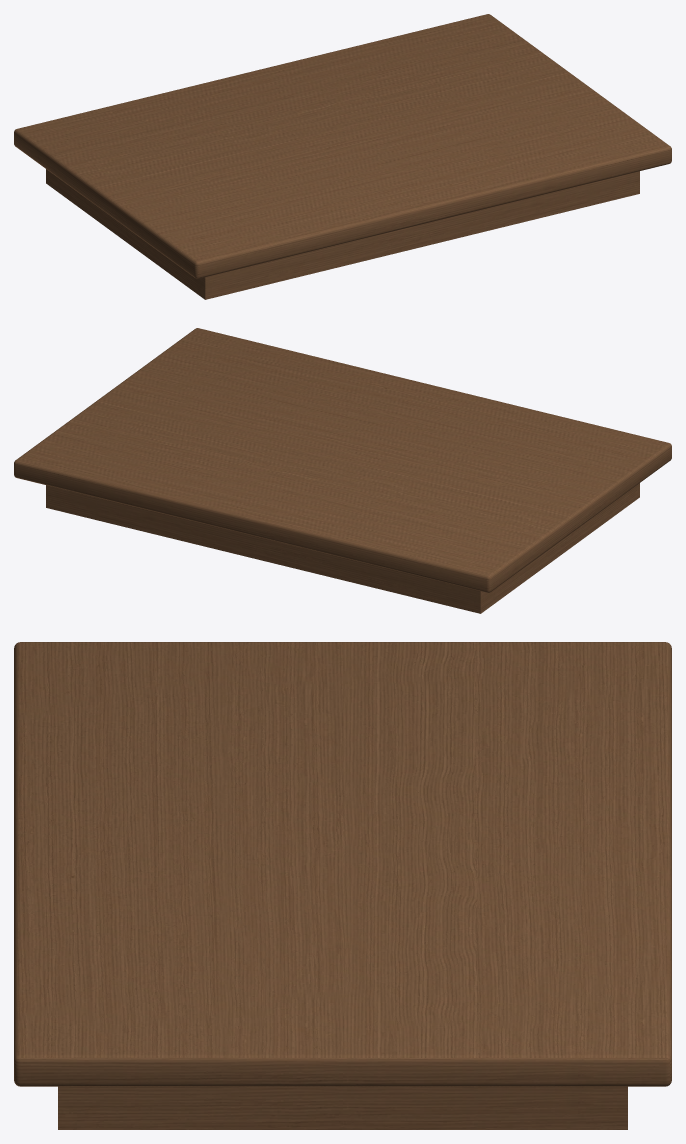
Rendered from tabletop.glb.
3 renders of one model, top to bottom at view 1: azimuth 30°, elevation 25°; view 2: azimuth 150°, elevation 25°; view 3: azimuth 270°, elevation 25°, orthographic. The views are drawn at different scales.
Parts seen in each view (by area): view 1: tabletop, apron; view 2: tabletop, apron; view 3: tabletop, apron.
Boxes of the visible parts, bbox=[...] form: tabletop: bbox=[14, 14, 671, 278]; apron: bbox=[46, 169, 639, 299]; tabletop: bbox=[14, 328, 671, 592]; apron: bbox=[46, 483, 639, 613]; tabletop: bbox=[14, 642, 671, 1086]; apron: bbox=[58, 1086, 627, 1129].
Bounding box in the file's own units: 0.9 × 0.092 × 0.6.
1 material, 1 textured.
